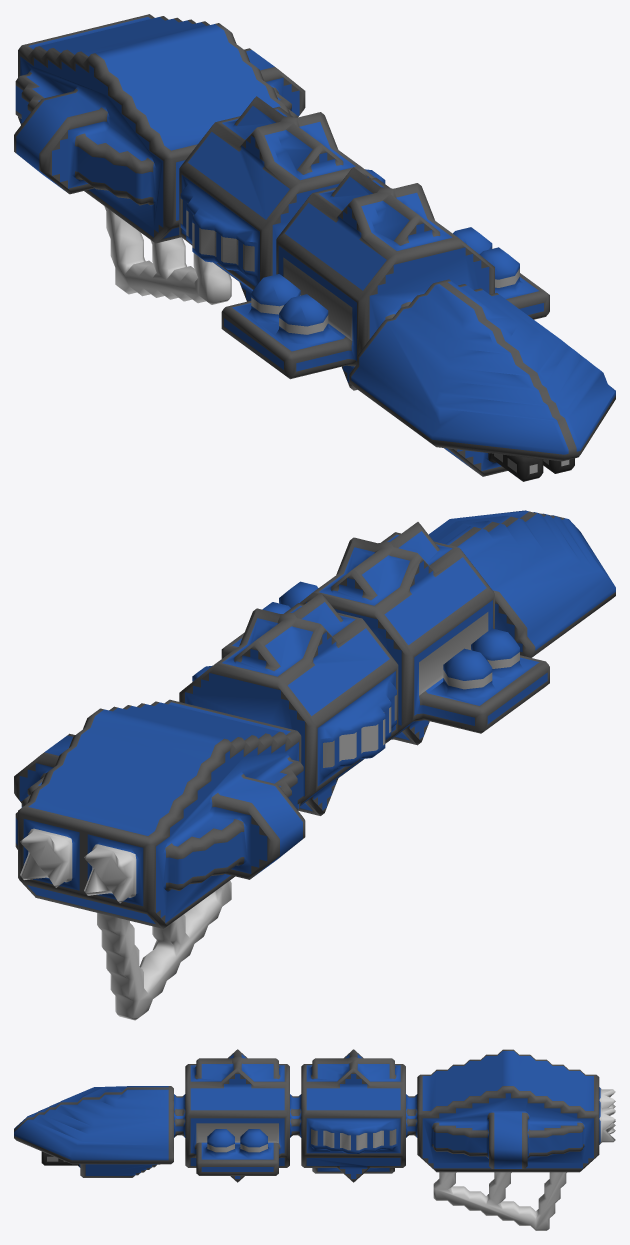
Rendered from diadochi-3-lamashtu-class.obj.
3 views of the same model, one above another, from view 1: azimuth 30°, elevation 25°; view 2: azimuth 150°, elevation 25°; view 3: azimuth 270°, elevation 25° (orthographic). The views are drawn at different scales.
Bounding box in the file's own units: 33 × 34 × 109.
Materials: 1 (1 with a texture image).
